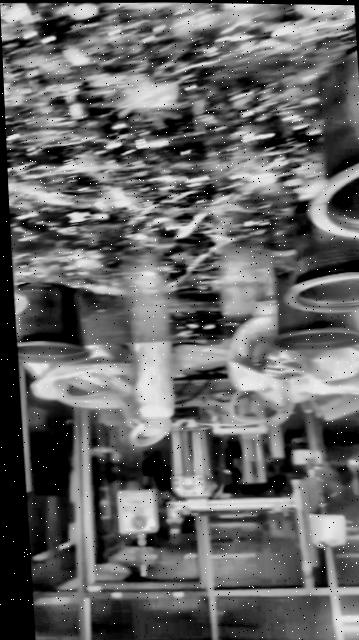pot: (309, 49, 359, 238), (284, 206, 359, 313), (274, 274, 359, 350), (13, 284, 89, 363), (10, 217, 23, 299)
